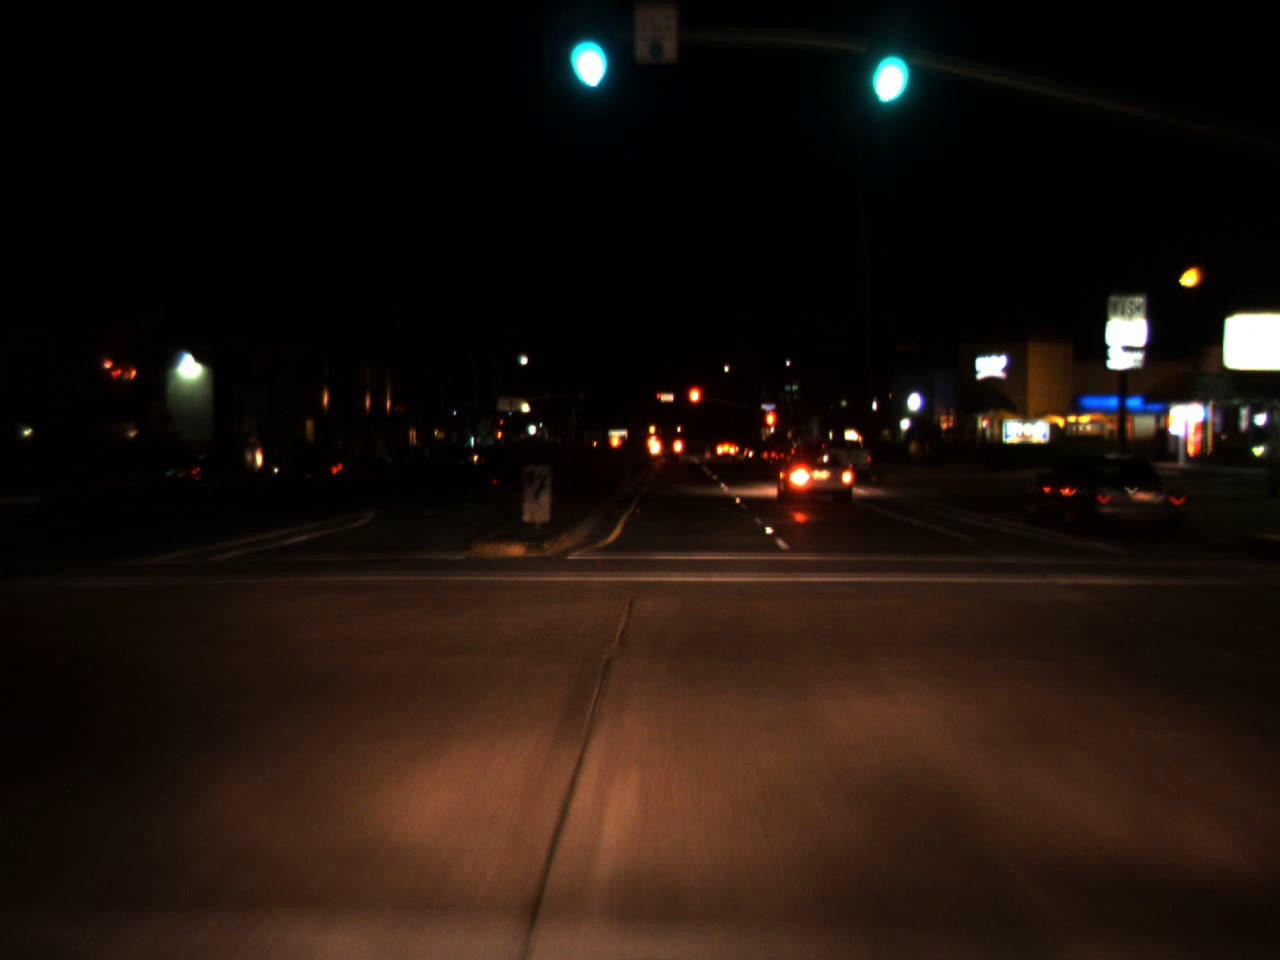go: (864, 29, 907, 110), (565, 20, 611, 92)
stop: (686, 384, 703, 421), (763, 408, 778, 445), (656, 392, 662, 402)
